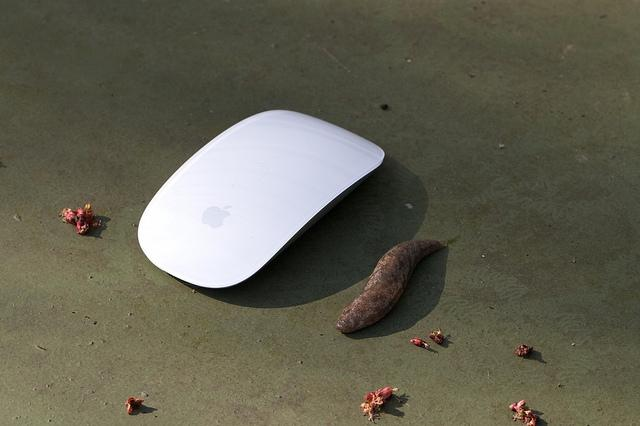apple: (202, 206, 232, 228)
